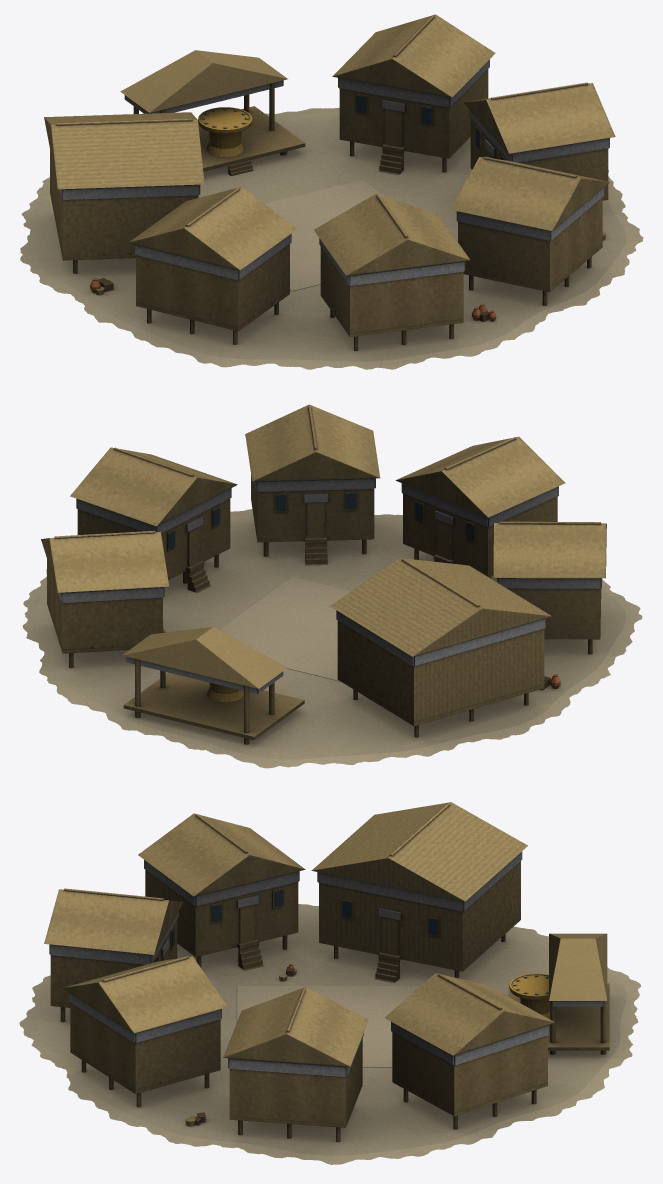
Rendered from bronze-town-small-a-monsoon.glb.
3 views of the same model, one above another, from view 1: azimuth 30°, elevation 25°; view 2: azimuth 150°, elevation 25°; view 3: azimuth 270°, elevation 25° (orthographic).
Visible parts, largest first — view 1: LOD0; view 2: LOD0; view 3: LOD0.
Boxes of the visible parts, box(x1,y1,x2,y2) form: LOD0: box(20, 14, 643, 369); LOD0: box(22, 404, 642, 768); LOD0: box(19, 802, 640, 1164).
Size of what is drawn, in the model's own units: 3.98 by 0.867 by 3.98.
3 materials, 3 textured.
